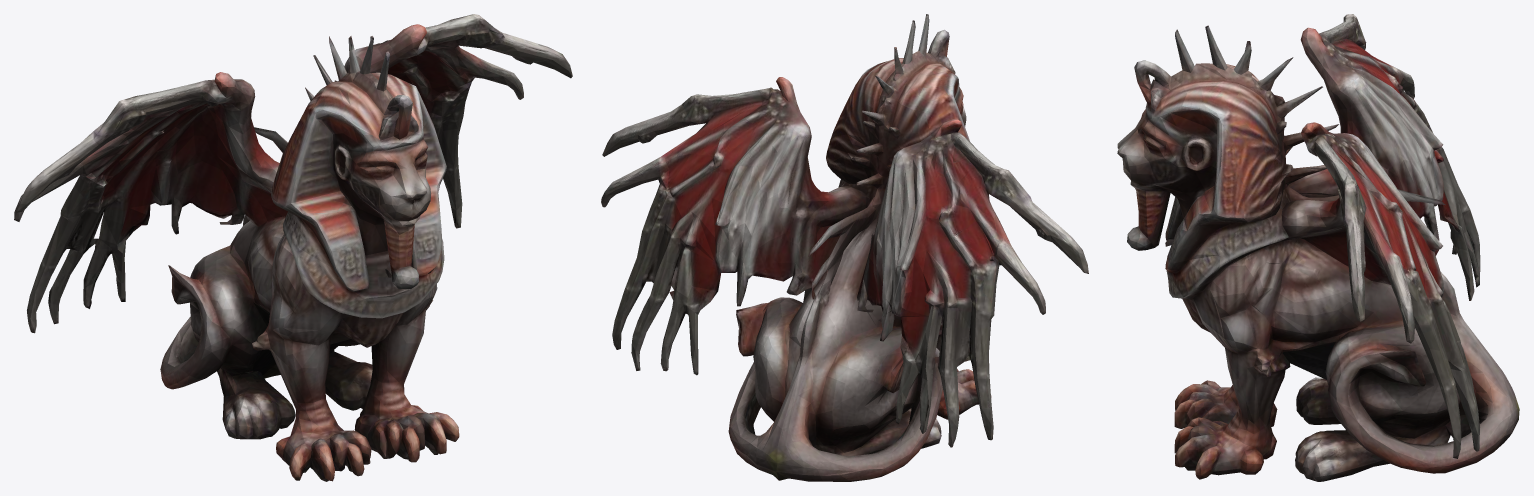
Rendered from vespera__razorwing.glb.
The picture shows the model from 3 angles, left to right: view 1: azimuth 30°, elevation 25°; view 2: azimuth 150°, elevation 25°; view 3: azimuth 270°, elevation 25°; orthographic projection. The views are drawn at different scales.
Visible parts, largest first — view 1: world; view 2: world; view 3: world.
Boxes of the visible parts, <box> form: world: <box>14,14,572,481</box>; world: <box>601,14,1088,481</box>; world: <box>1117,14,1519,481</box>.
Bounding box in the file's own units: 0.9999 × 0.7302 × 0.6353.
1 material, 1 textured.
